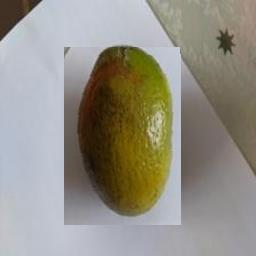Orange Semifresh: (65, 47, 182, 225)
